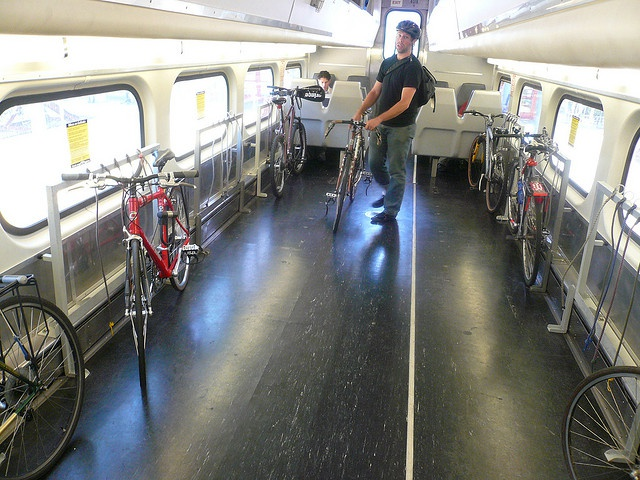non-vehicle: (61, 148, 210, 409), (1, 275, 85, 474), (495, 127, 549, 287), (559, 366, 639, 473), (267, 86, 321, 197), (459, 108, 516, 212), (324, 120, 372, 232)
